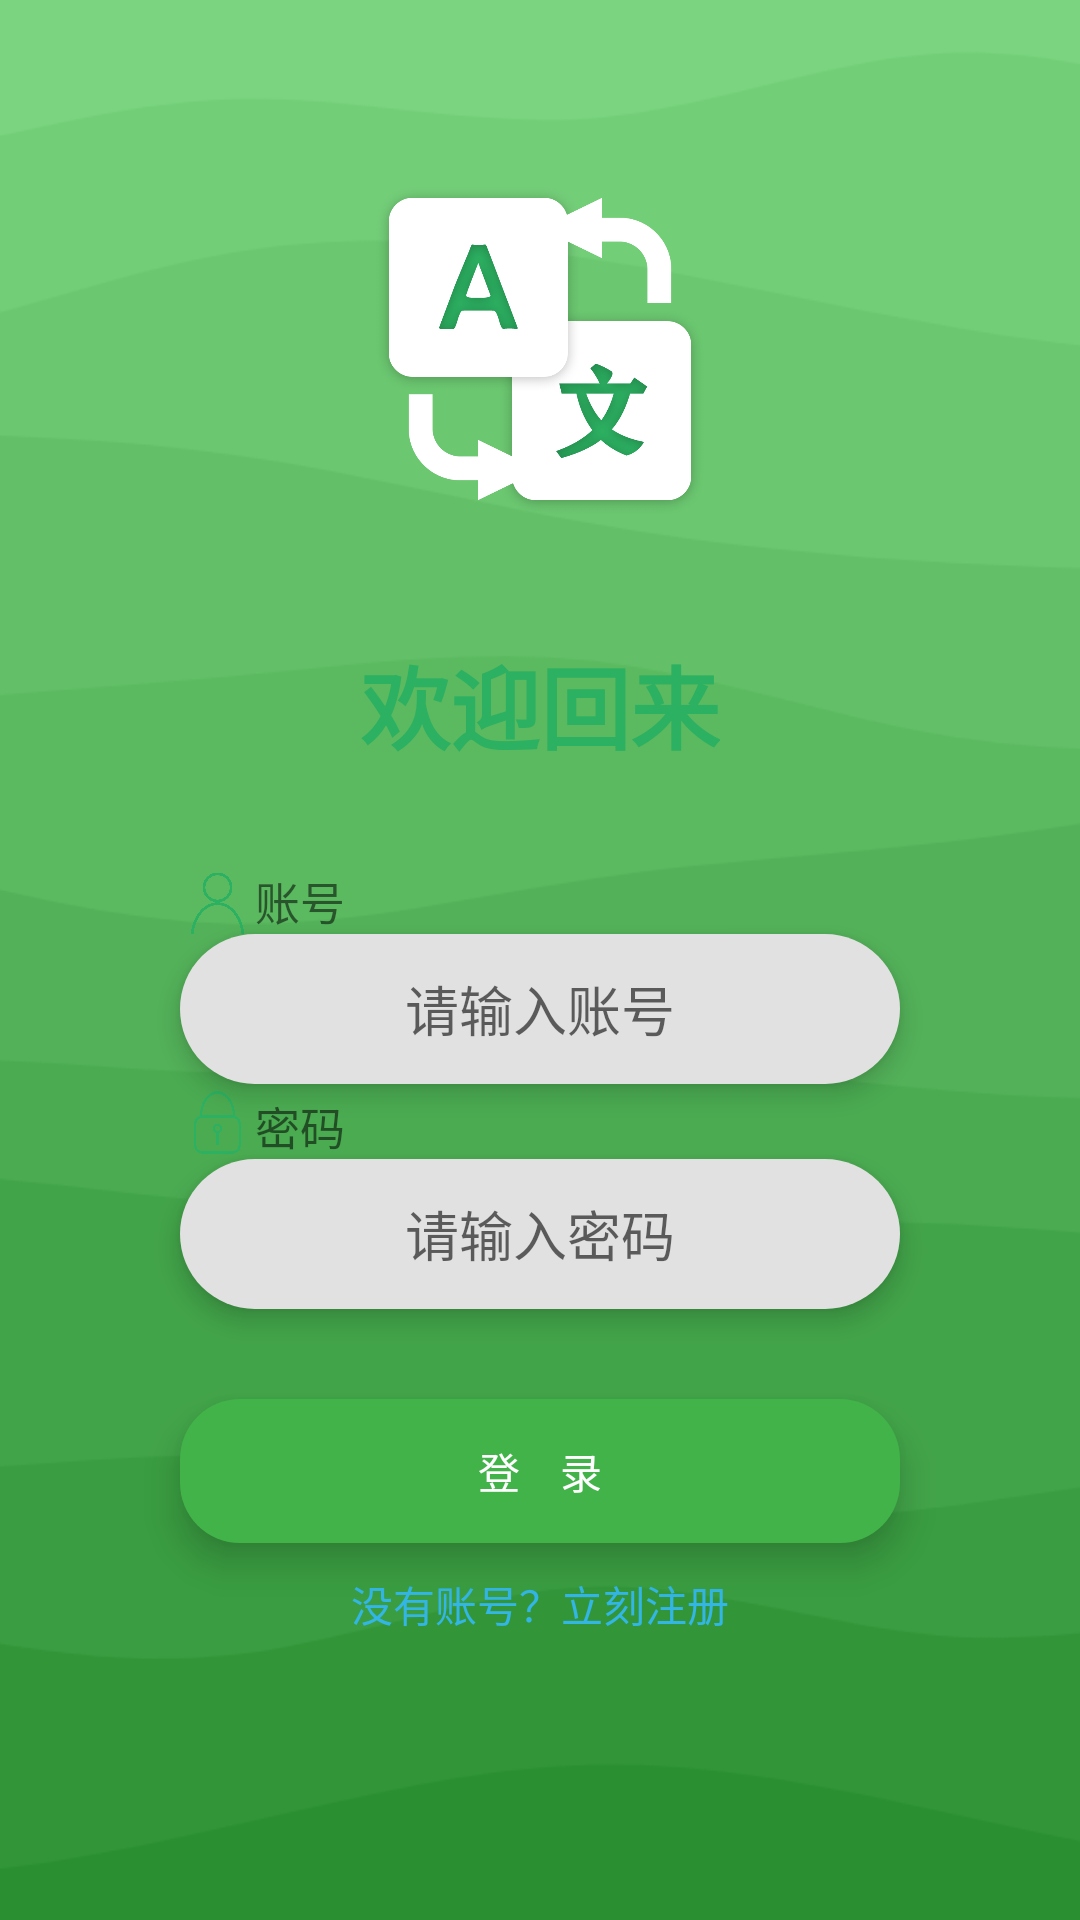

Point at icon controls on the screen. Image size 1080px×1920px, points as [x,y].
translation: [540,351]
